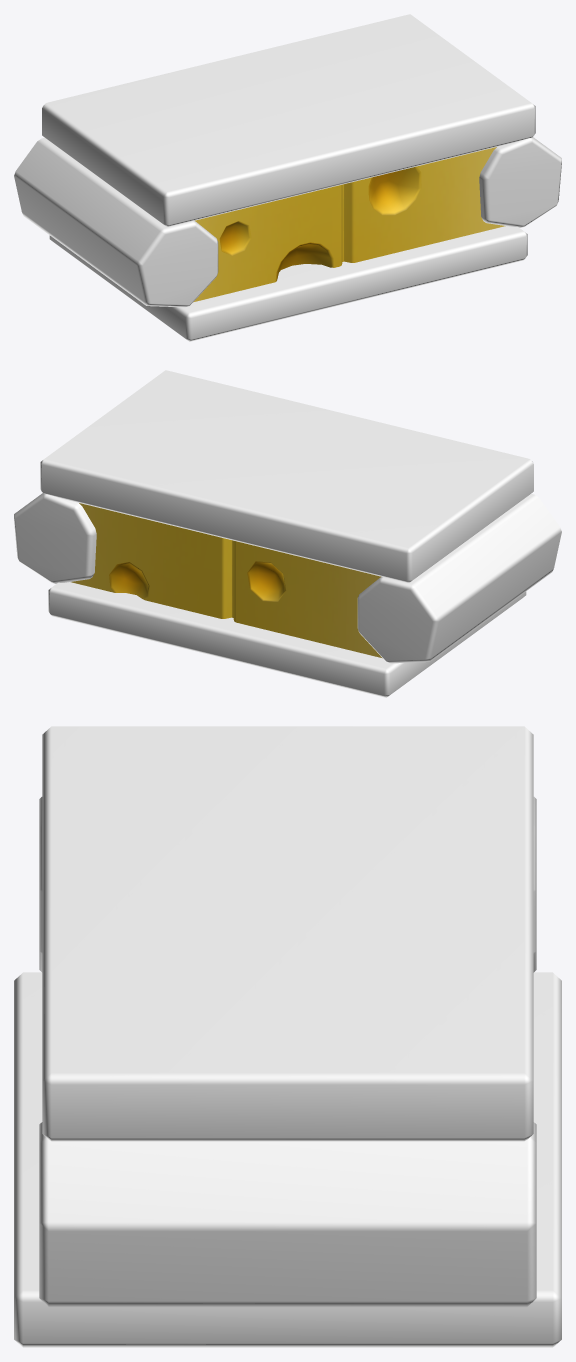
File: mod_sc_roma_001_sculpture_001.fbx
The picture shows the model from 3 angles, top to bottom: view 1: azimuth 30°, elevation 25°; view 2: azimuth 150°, elevation 25°; view 3: azimuth 270°, elevation 25°; orthographic projection. The views are drawn at different scales.
Parts seen in each view (by area): view 1: mod_sc_roma_001_sculpture_001; view 2: mod_sc_roma_001_sculpture_001; view 3: mod_sc_roma_001_sculpture_001.
Part boxes in pixels (left/top/right/bottom): mod_sc_roma_001_sculpture_001: left=14, top=14, right=561, bottom=341; mod_sc_roma_001_sculpture_001: left=14, top=370, right=561, bottom=697; mod_sc_roma_001_sculpture_001: left=14, top=726, right=561, bottom=1347.
Size of the model in its own units: 524 by 175 by 300.
